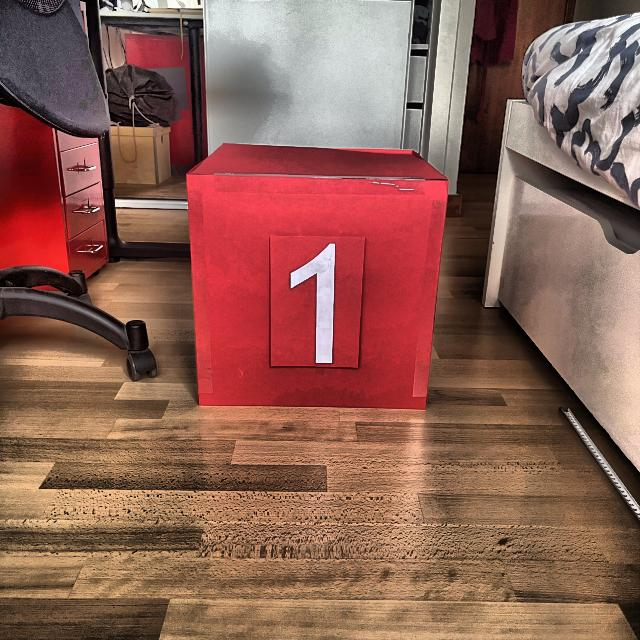one: (285, 242, 341, 366)
red box: (187, 140, 434, 413)
